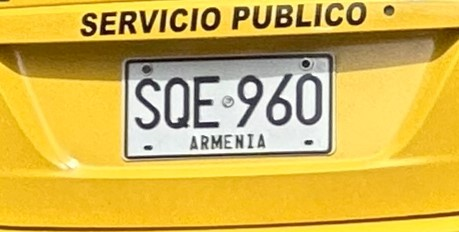number plate: (125, 54, 332, 158)
